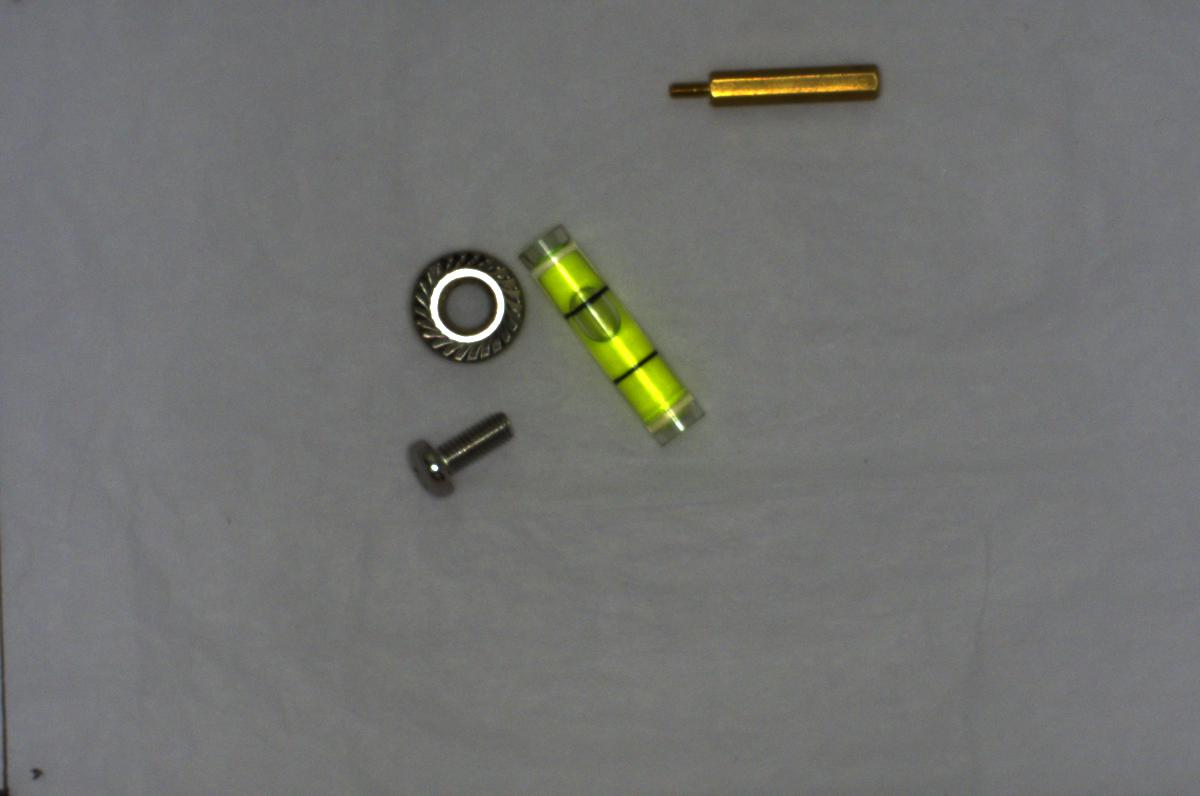Flange nut: (404, 240, 530, 369)
Hexagon pillar: (667, 53, 891, 121)
Horizontal bubble: (518, 214, 712, 455)
Round head screw: (394, 405, 525, 499)
